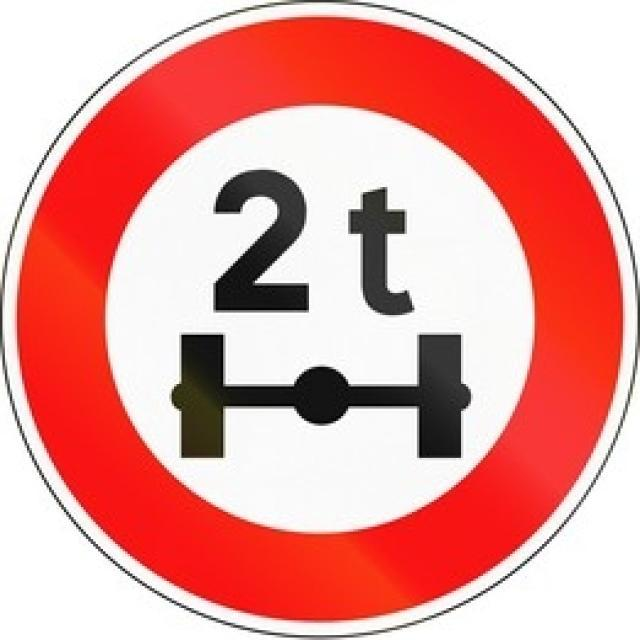axle load limit: (16, 15, 623, 619)
